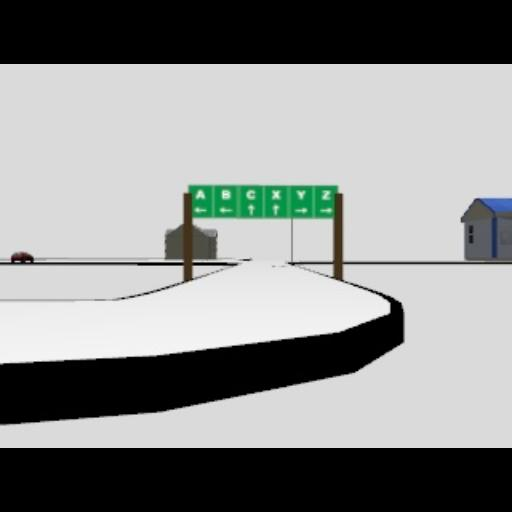A: (194, 188, 208, 202)
B: (220, 188, 232, 200)
C: (246, 189, 256, 201)
Left: (194, 206, 206, 214), (220, 206, 232, 214)
Right: (294, 206, 308, 216), (319, 206, 333, 216)
Straight: (247, 202, 255, 216), (272, 204, 280, 216)
X: (272, 190, 280, 200)
Y: (296, 190, 306, 200)
Z: (320, 189, 332, 201)
